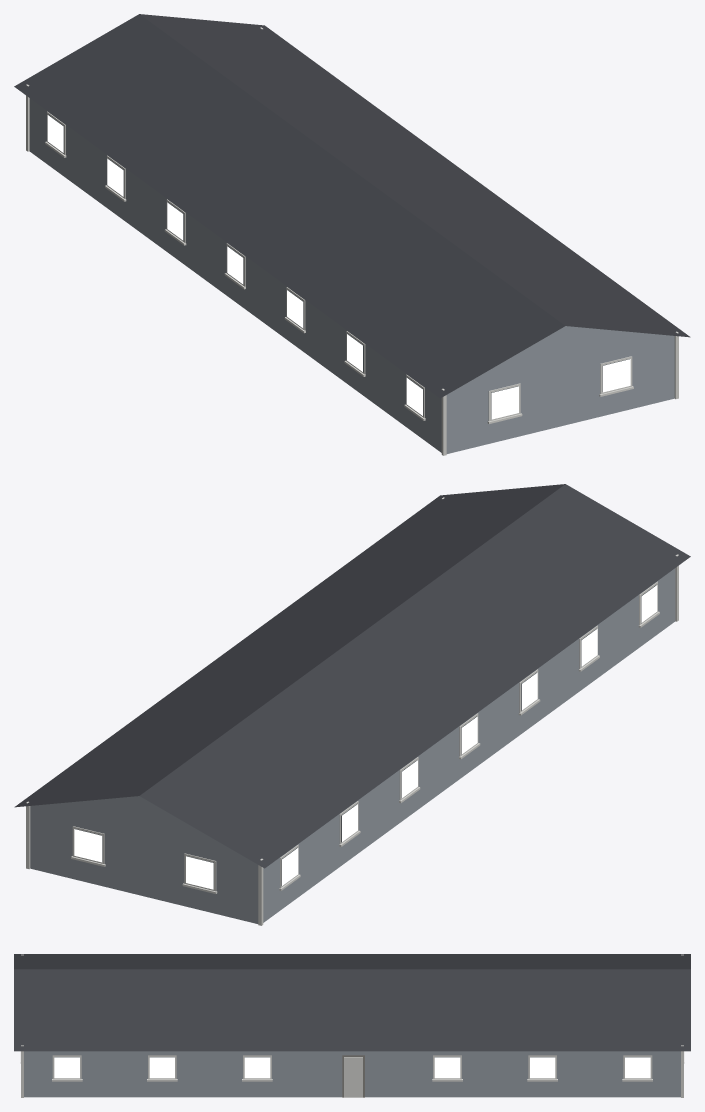
The model's file is h28_port_village_stable1.gltf.
3 renders of one model, top to bottom at view 1: azimuth 30°, elevation 25°; view 2: azimuth 150°, elevation 25°; view 3: azimuth 270°, elevation 25°, orthographic. The views are drawn at different scales.
Parts seen in each view (by area): view 1: h28_port_village_stable1; view 2: h28_port_village_stable1; view 3: h28_port_village_stable1.
Part boxes in pixels (<box>): h28_port_village_stable1: <box>14,14,690,455</box>; h28_port_village_stable1: <box>14,484,690,925</box>; h28_port_village_stable1: <box>14,954,690,1097</box>.
Size of the model in its own units: 10.8 by 4.3 by 31.8.
